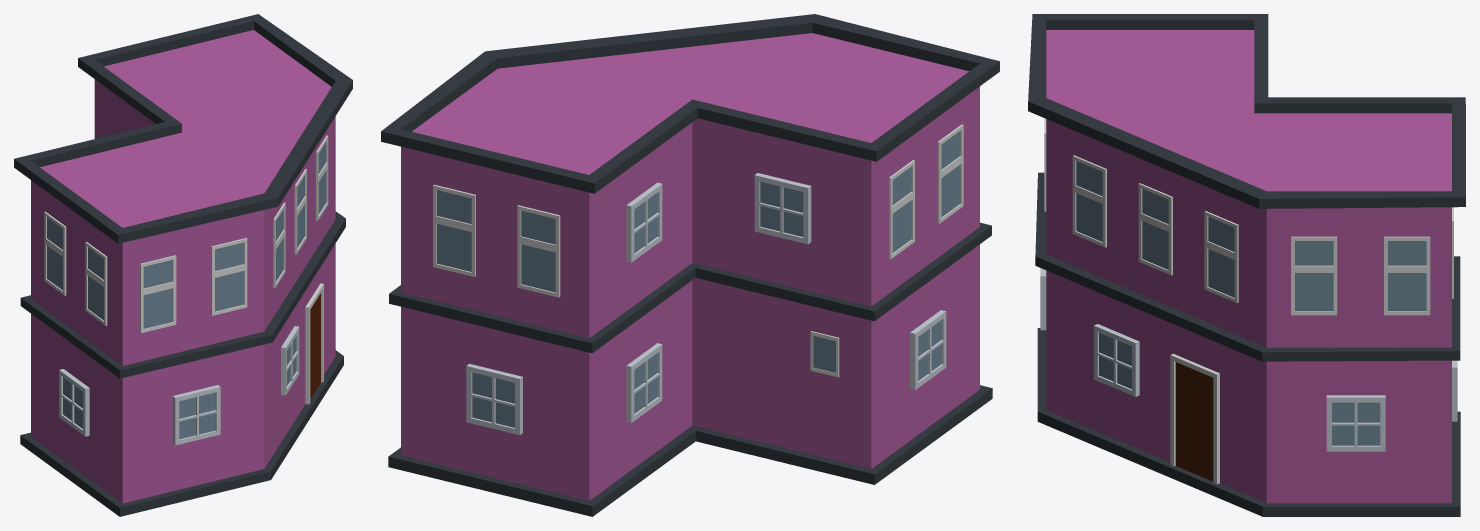
The model's file is dia pink.fbx.
The picture shows the model from 3 angles, left to right: view 1: azimuth 30°, elevation 25°; view 2: azimuth 150°, elevation 25°; view 3: azimuth 270°, elevation 25°; orthographic projection. The views are drawn at different scales.
Visible parts, largest first — view 1: dia pink; view 2: dia pink; view 3: dia pink.
Part boxes in pixels (box(x1,y1,x2,y2)): dia pink: box(14, 14, 352, 516); dia pink: box(381, 14, 999, 516); dia pink: box(1028, 14, 1465, 516).
Bounding box in the file's own units: 7.82 × 6.35 × 7.82.
